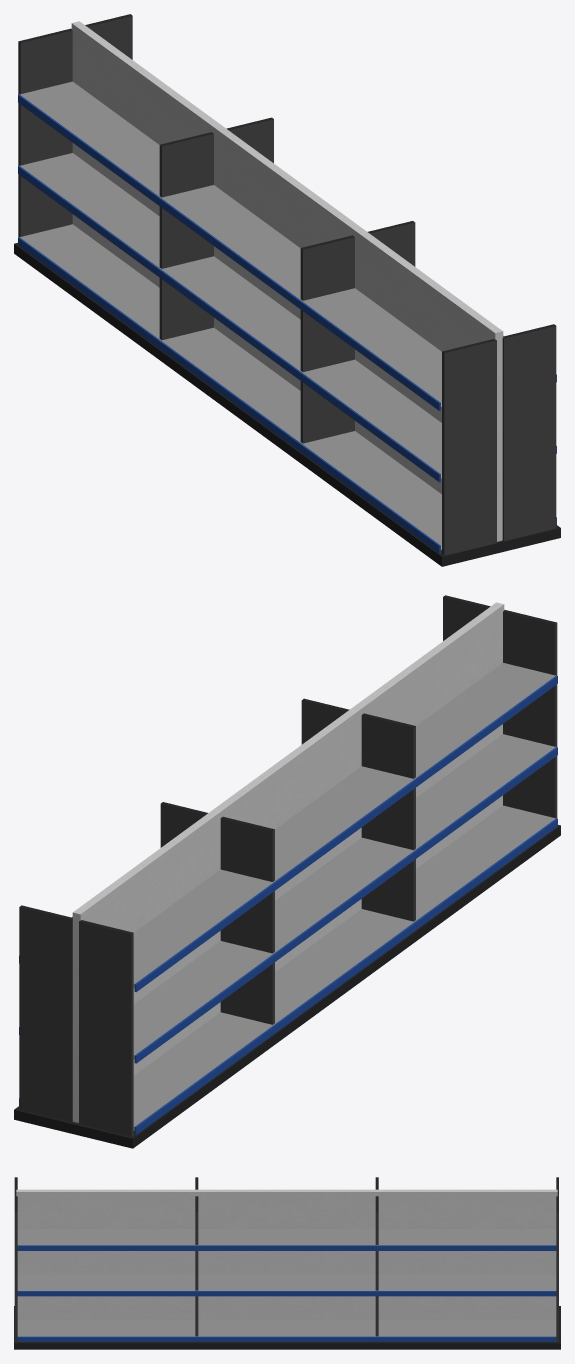
The model's file is huojia2.FBX.
3 views of the same model, one above another, from view 1: azimuth 30°, elevation 25°; view 2: azimuth 150°, elevation 25°; view 3: azimuth 270°, elevation 25° (orthographic). The views are drawn at different scales.
Parts seen in each view (by area): view 1: huojia2; view 2: huojia2; view 3: huojia2.
Part boxes in pixels (x1=…): huojia2: x1=14, y1=14, x2=560, y2=566; huojia2: x1=14, y1=595, x2=560, y2=1148; huojia2: x1=14, y1=1177, x2=560, y2=1349.
Bounding box in the file's own units: 149 × 263 × 931.
